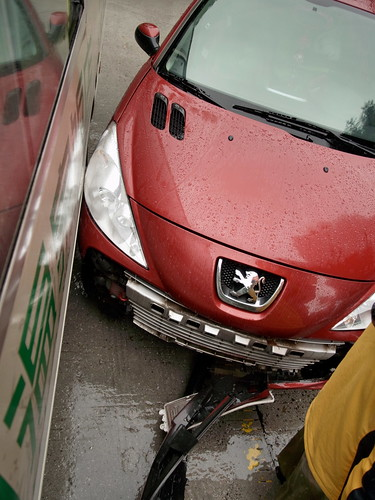car: (97, 1, 375, 440)
